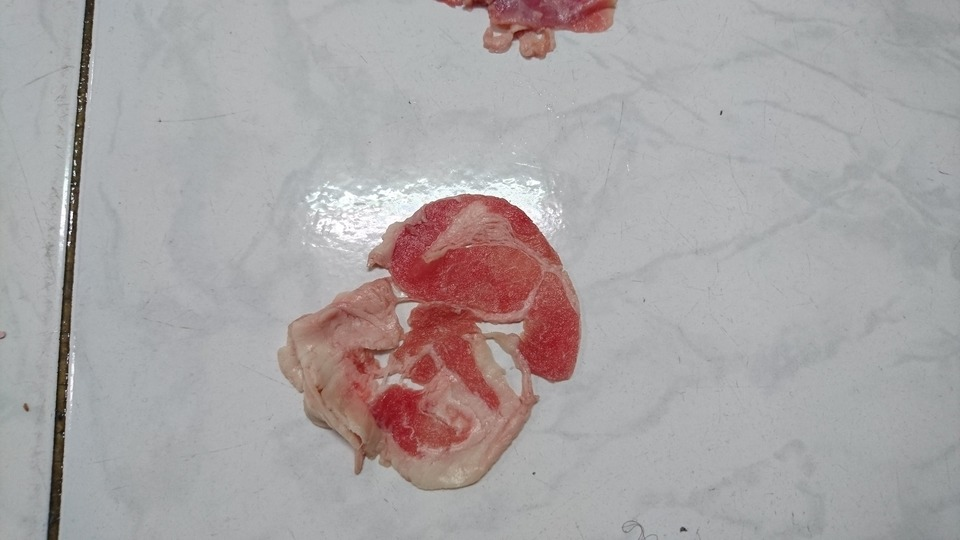restructured meat: (277, 191, 584, 490)
